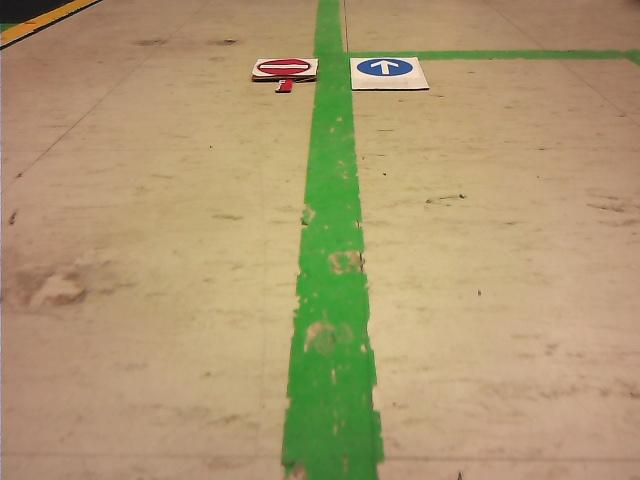GO FORWARD: (357, 59, 412, 76)
NO ENTRY: (257, 59, 310, 74)
